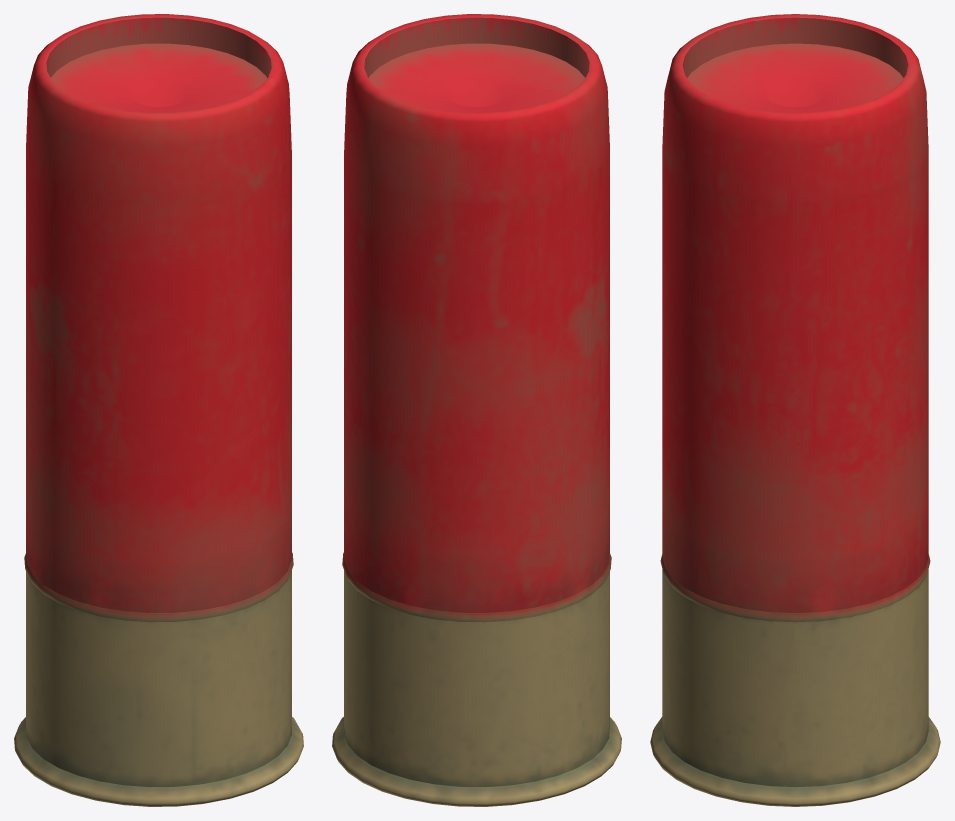
Rendered from round_12x70.glb.
3 views of the same model, side by side, from view 1: azimuth 30°, elevation 25°; view 2: azimuth 150°, elevation 25°; view 3: azimuth 270°, elevation 25° (orthographic).
Parts seen in each view (by area): view 1: Round; view 2: Round; view 3: Round.
Part boxes in pixels (bbox=[...]): Round: bbox=[14, 14, 303, 806]; Round: bbox=[332, 14, 621, 806]; Round: bbox=[650, 14, 940, 806].
Size of the model in its own units: 0.0262 by 0.0683 by 0.0262.
1 material, 1 textured.
